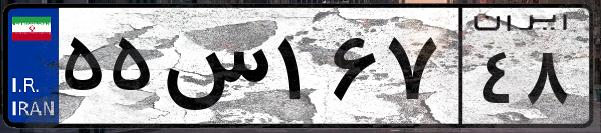1: (270, 28, 330, 110)
4: (475, 38, 525, 113)
5: (57, 26, 110, 100), (110, 28, 158, 98)
6: (330, 28, 385, 110)
7: (385, 28, 445, 110)
8: (525, 38, 570, 115)
س: (158, 20, 270, 120)
